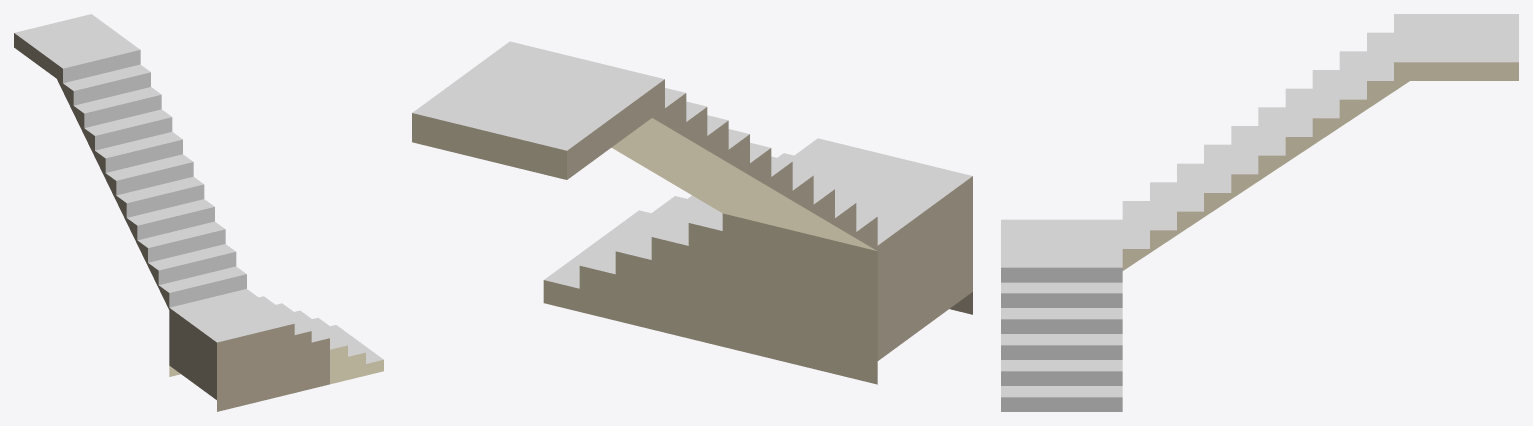
Rendered from Escalier_amphi.fbx.
3 renders of one model, left to right at view 1: azimuth 30°, elevation 25°; view 2: azimuth 150°, elevation 25°; view 3: azimuth 270°, elevation 25°, orthographic. The views are drawn at different scales.
Visible parts, largest first — view 1: Escalier_Amphi; view 2: Escalier_Amphi; view 3: Escalier_Amphi.
Part boxes in pixels (bbox=[...]): Escalier_Amphi: bbox=[14, 14, 383, 411]; Escalier_Amphi: bbox=[412, 41, 972, 384]; Escalier_Amphi: bbox=[1001, 14, 1518, 411].
Size of the model in its own units: 227 by 299 by 477.
